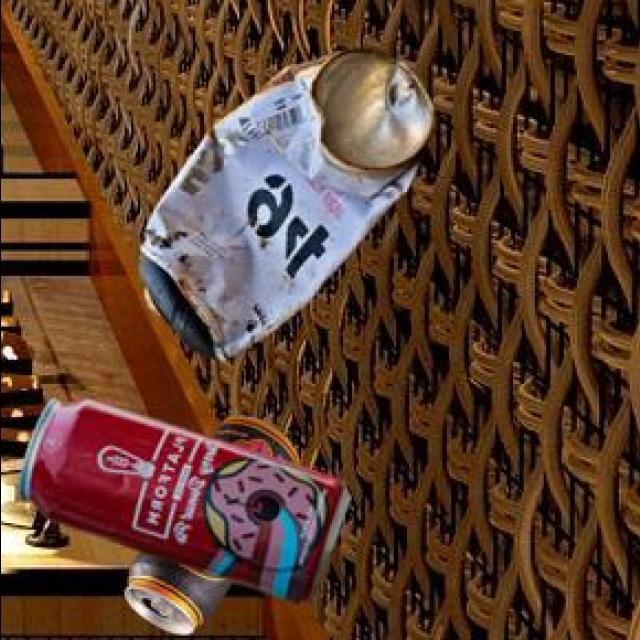logam: (142, 52, 436, 363), (21, 403, 354, 606), (127, 508, 235, 637), (177, 420, 301, 508)
